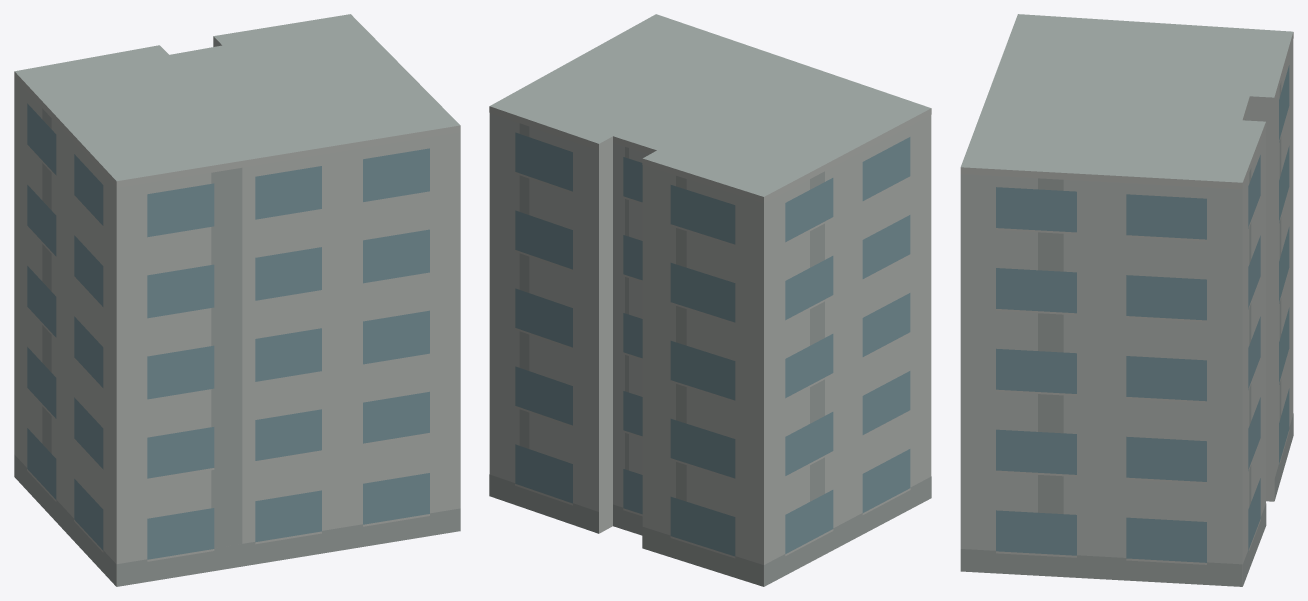
The model's file is survey-upis-32806301.glb.
3 renders of one model, left to right at view 1: azimuth 30°, elevation 25°; view 2: azimuth 150°, elevation 25°; view 3: azimuth 270°, elevation 25°, orthographic. The views are drawn at different scales.
Visible parts, largest first — view 1: survey-upis-32806301.tmp; view 2: survey-upis-32806301.tmp; view 3: survey-upis-32806301.tmp.
Boxes of the visible parts, x1=… form: survey-upis-32806301.tmp: x1=14, y1=14, x2=460, y2=586; survey-upis-32806301.tmp: x1=489, y1=14, x2=931, y2=586; survey-upis-32806301.tmp: x1=960, y1=14, x2=1293, y2=586.
Bounding box in the file's own units: 12.9 × 14.4 × 10.76.
